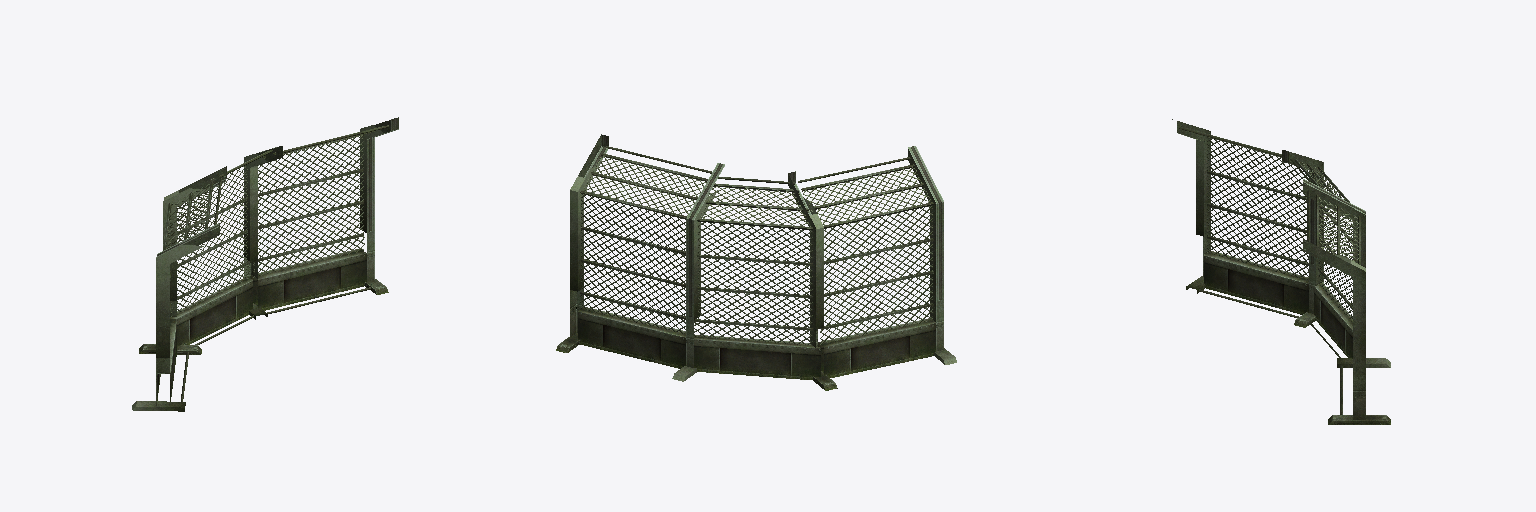
3 renders of one model, left to right at view 1: azimuth 30°, elevation 25°; view 2: azimuth 150°, elevation 25°; view 3: azimuth 270°, elevation 25°, orthographic.
Parts seen in each view (by area): view 1: obj_body00_obj_body00Shape.001; view 2: obj_body00_obj_body00Shape.001; view 3: obj_body00_obj_body00Shape.001.
Part boxes in pixels (x1,y1,x2,y2): obj_body00_obj_body00Shape.001: (132, 117, 398, 411); obj_body00_obj_body00Shape.001: (556, 134, 956, 390); obj_body00_obj_body00Shape.001: (1172, 119, 1390, 424).
Bounding box in the file's own units: 10.11 × 5.69 × 6.18.
2 materials, 1 textured.